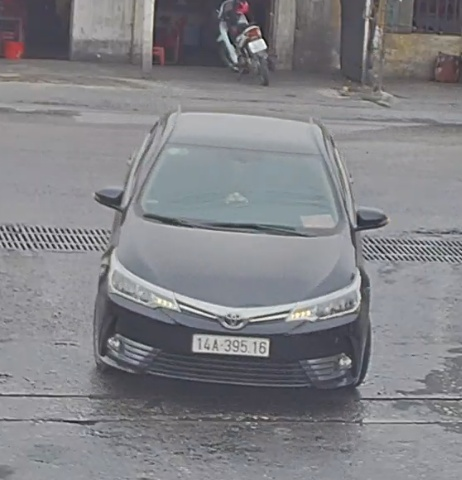vehicle plate: (190, 326, 275, 358)
